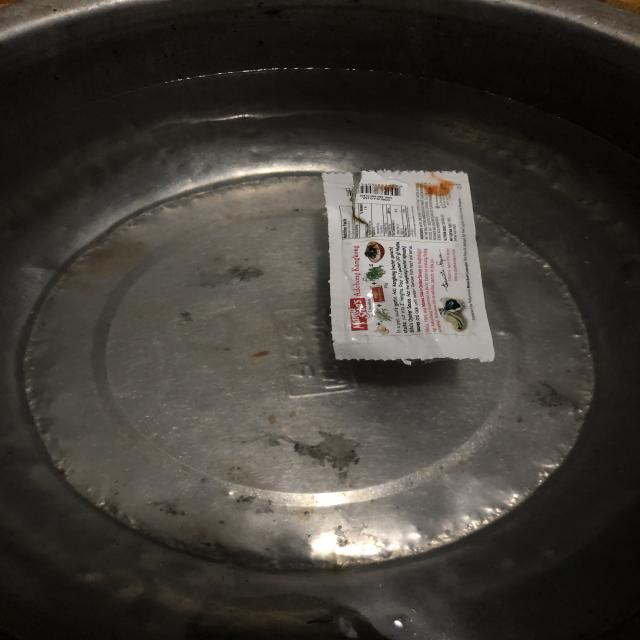Plastic Wrapper: (322, 170, 494, 364)
